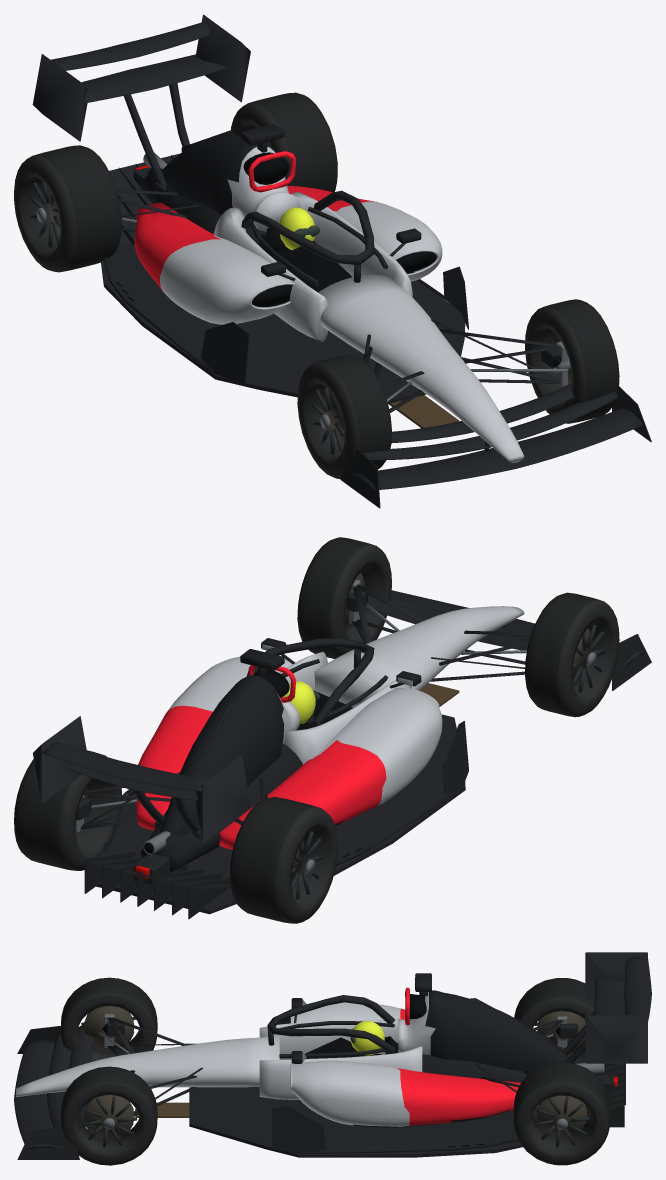
3 views of the same model, one above another, from view 1: azimuth 30°, elevation 25°; view 2: azimuth 150°, elevation 25°; view 3: azimuth 270°, elevation 25° (orthographic). The views are drawn at different scales.
Visible parts, largest first — view 1: L2_Chassis, L2_Wheel_RL, L2_Wheel_FL, L2_Wheel_FR, L2_Wheel_RR; view 2: L2_Chassis, L2_Wheel_RL, L2_Wheel_FL, L2_Wheel_RR, L2_Wheel_FR; view 3: L2_Chassis, L2_Wheel_RR, L2_Wheel_FR, L2_Wheel_FL, L2_Wheel_RL.
Part boxes in pixels (x1,y1,x2,y2): L2_Chassis: [32, 14, 651, 508]; L2_Wheel_RL: [14, 145, 121, 272]; L2_Wheel_FL: [297, 354, 391, 479]; L2_Wheel_FR: [525, 299, 619, 423]; L2_Wheel_RR: [231, 92, 337, 192]; L2_Chassis: [32, 573, 651, 919]; L2_Wheel_RL: [230, 796, 337, 923]; L2_Wheel_FL: [525, 592, 619, 717]; L2_Wheel_RR: [14, 750, 121, 870]; L2_Wheel_FR: [297, 537, 391, 658]; L2_Chassis: [14, 952, 651, 1159]; L2_Wheel_RR: [513, 1062, 610, 1165]; L2_Wheel_FR: [61, 1066, 157, 1165]; L2_Wheel_FL: [61, 977, 157, 1061]; L2_Wheel_RL: [514, 978, 594, 1063].
Size of the model in its own units: 1.9 by 1.13 by 4.79.
